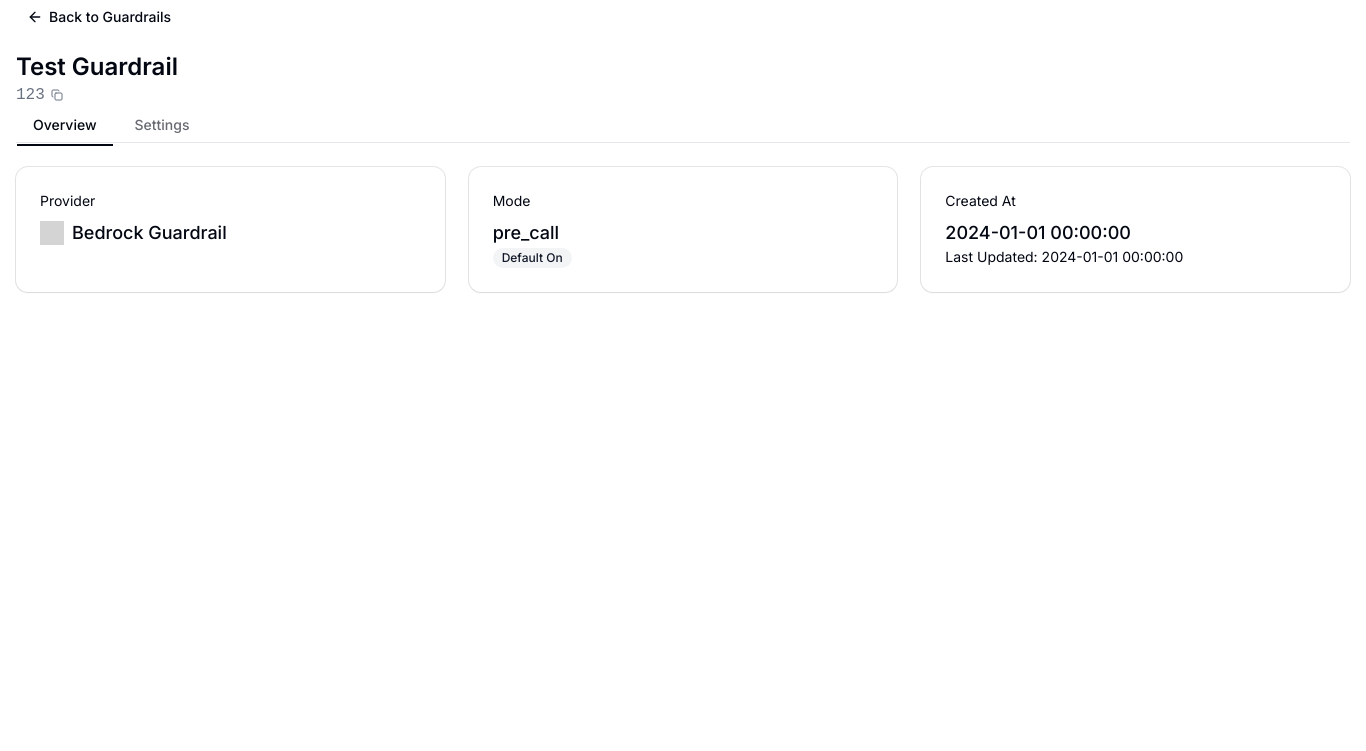
Test: GuardrailInfoView update payload characterization › sends nothing at all when the user saves without touching a field
Step 1. Click the tab "Settings" → (162, 124), box [118,108,206,142]
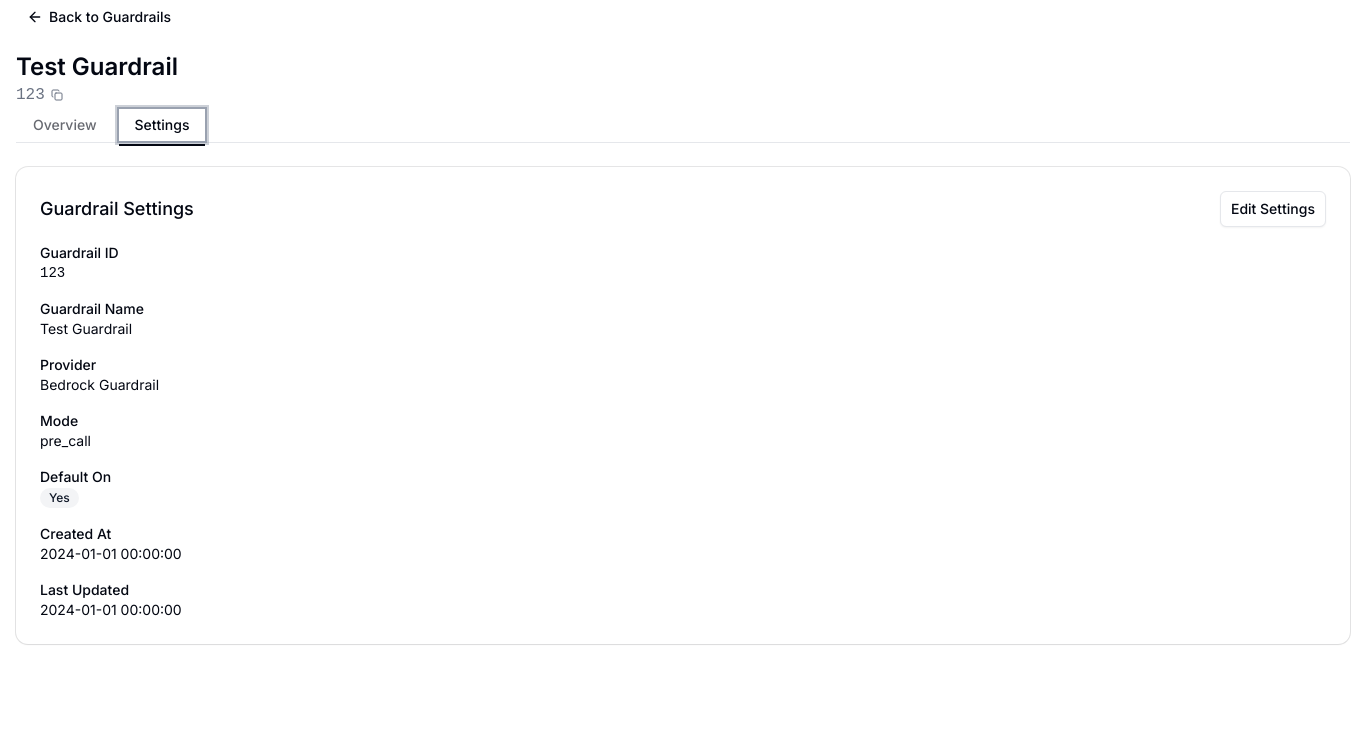
Step 2. Click the button "Edit Settings" → (1273, 209), box [1220,191,1326,227]
(page scrolled)
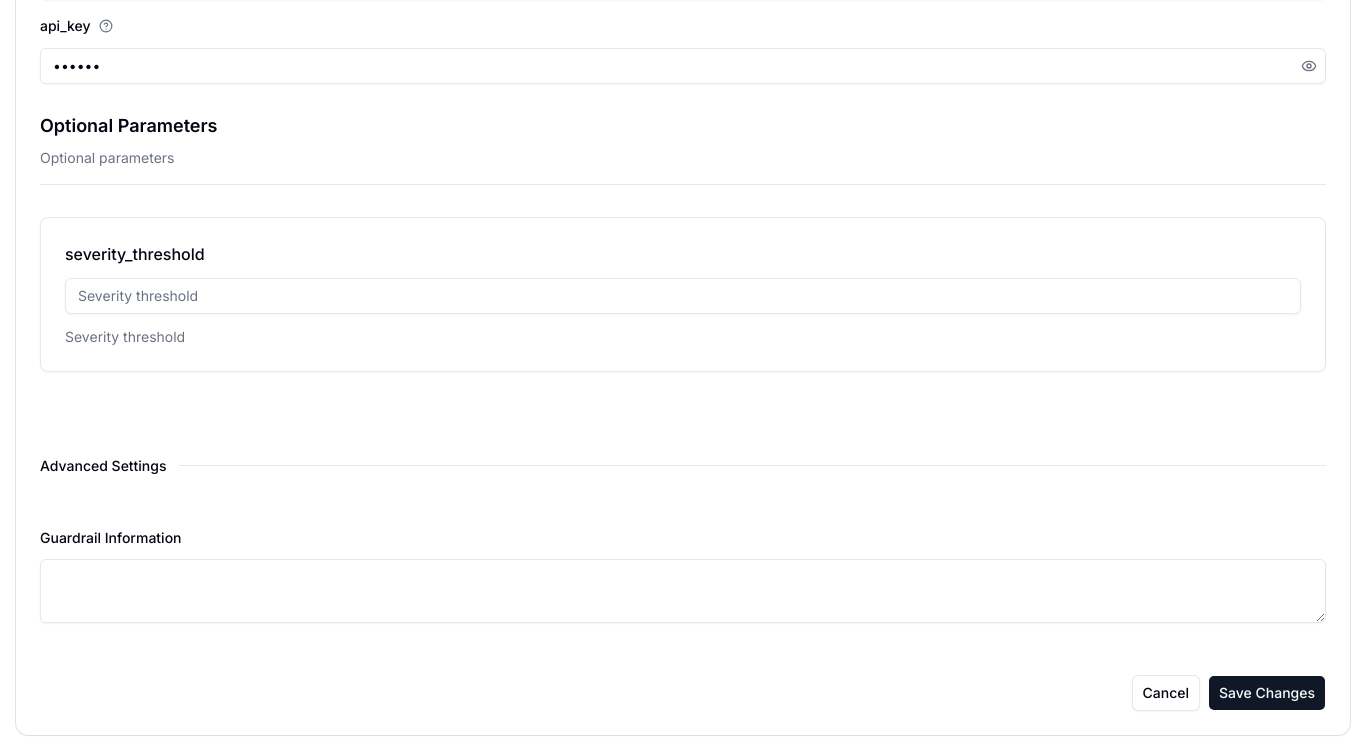
Step 3. Click the button "Save Changes" → (1267, 693), box [1208,675,1326,711]
(page scrolled)
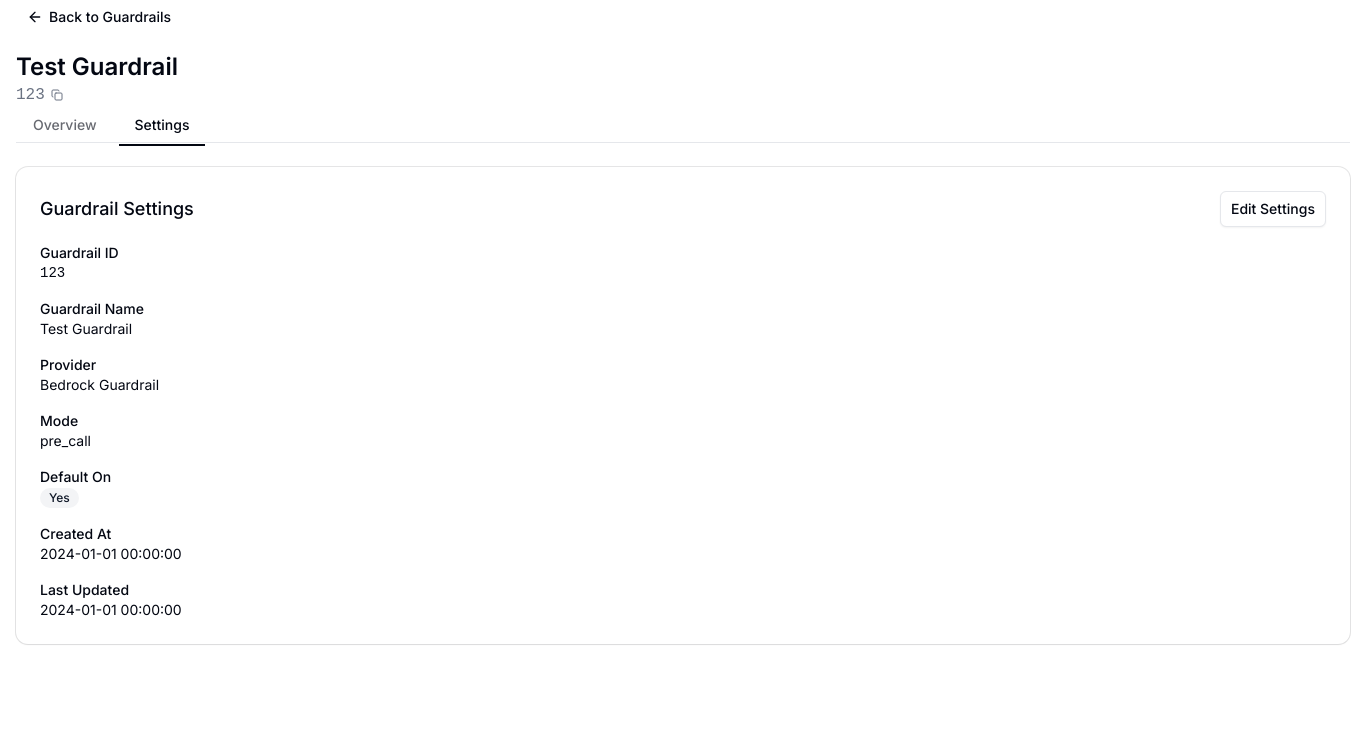
Expected: the button "Edit Settings" is shown, [1220,191,1326,227]
